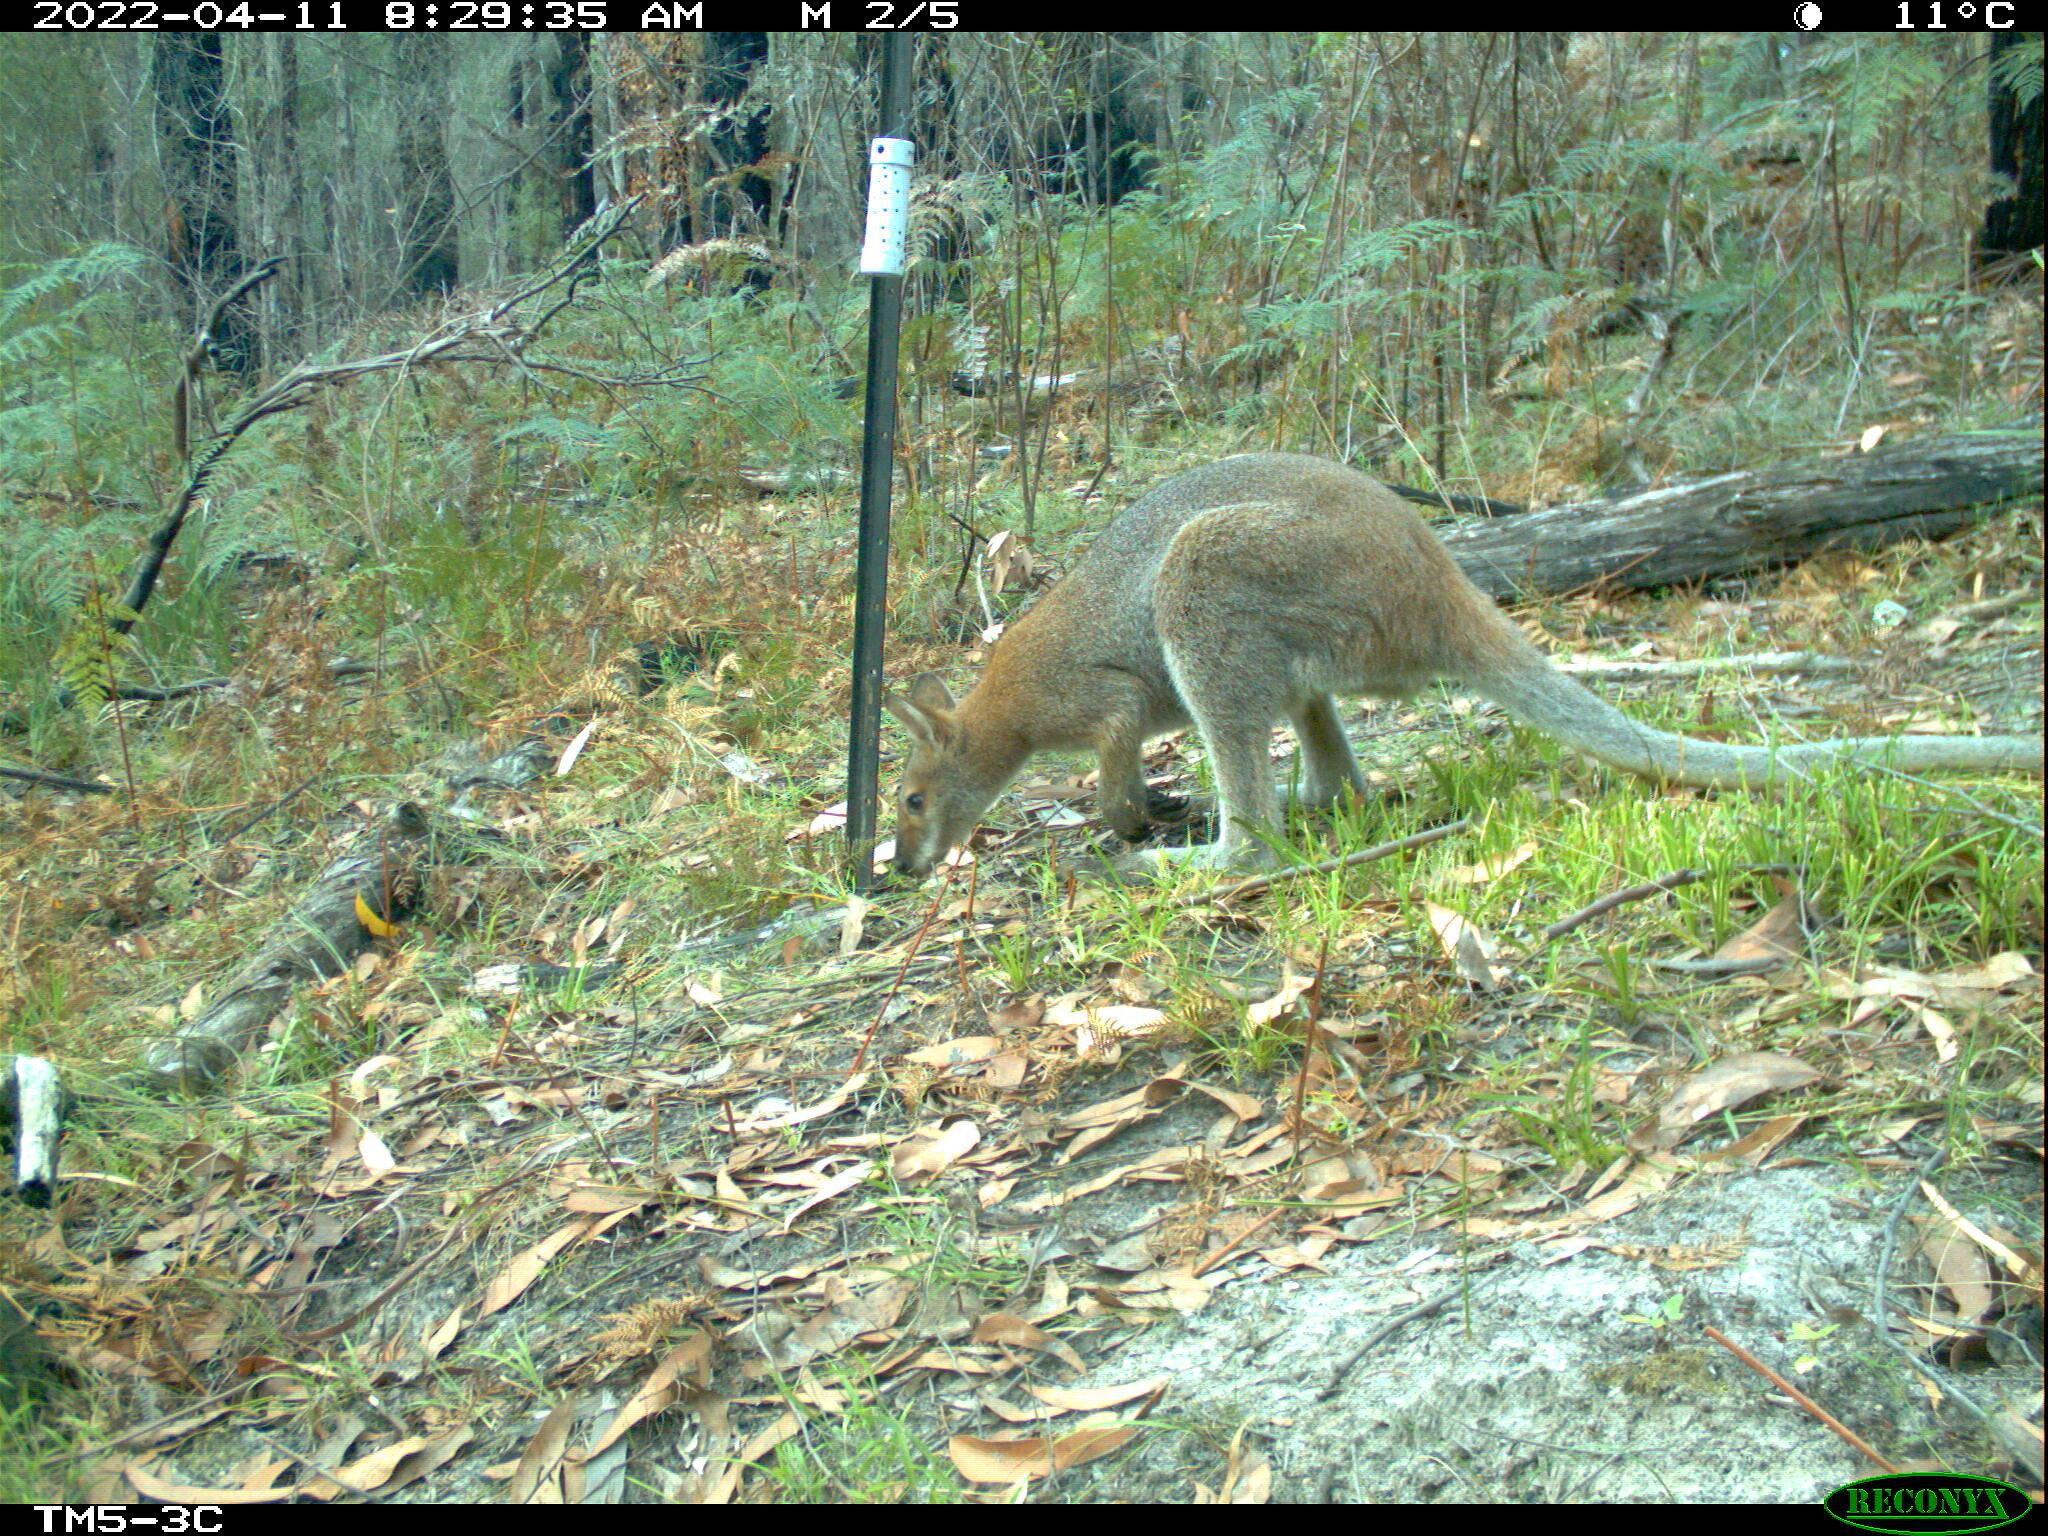Red-necked wallaby: (877, 452, 2048, 891)
